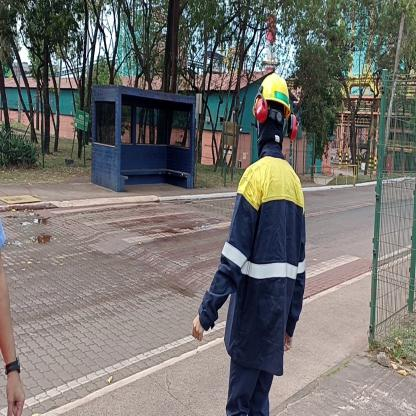Balaclava: (256, 106, 286, 155)
C_eletrica: (202, 156, 302, 371)
Capacete: (253, 70, 292, 111)
